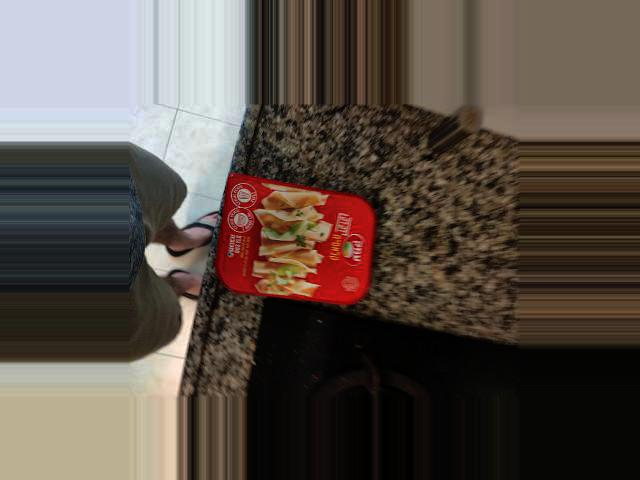cheese: (279, 193, 433, 324)
